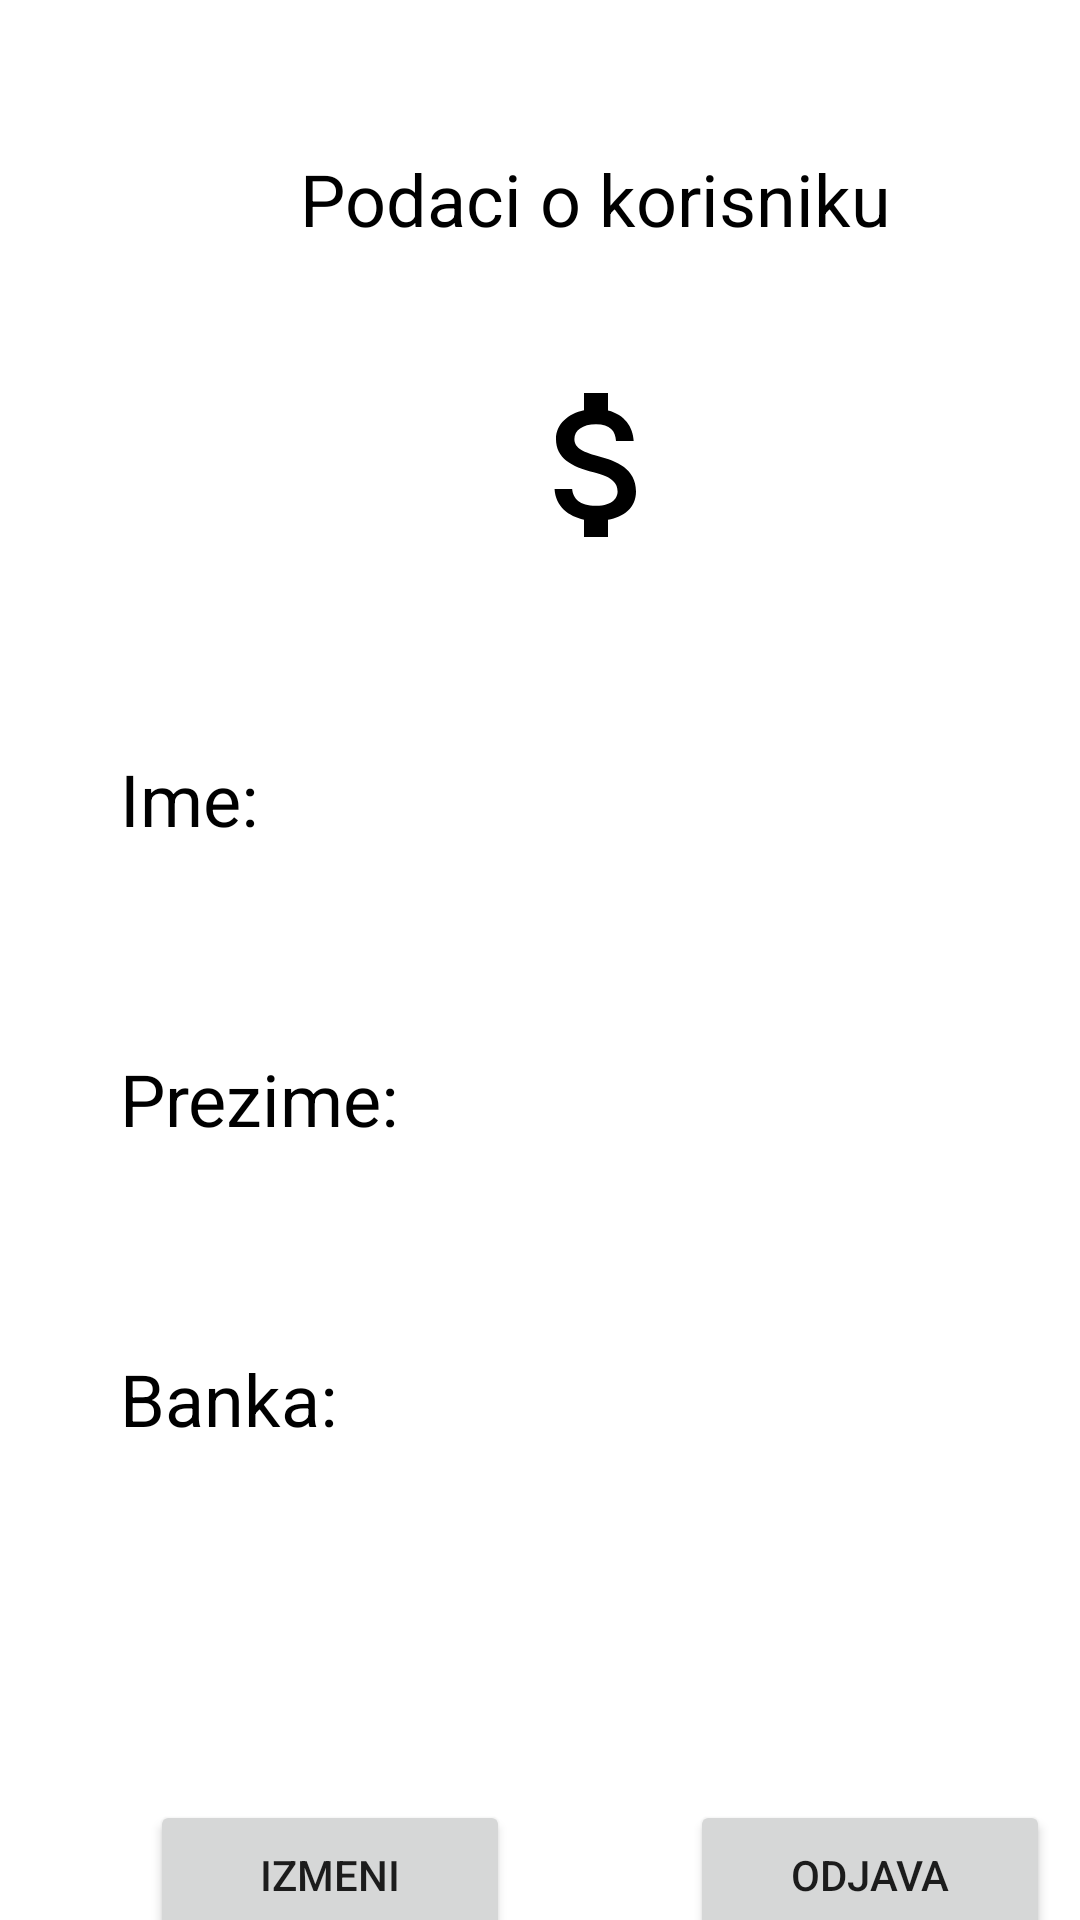

Icons on this 1080w x 1920h Android screen, each with the point to tap as point (x, y):
bigmoney: point (595, 465)
